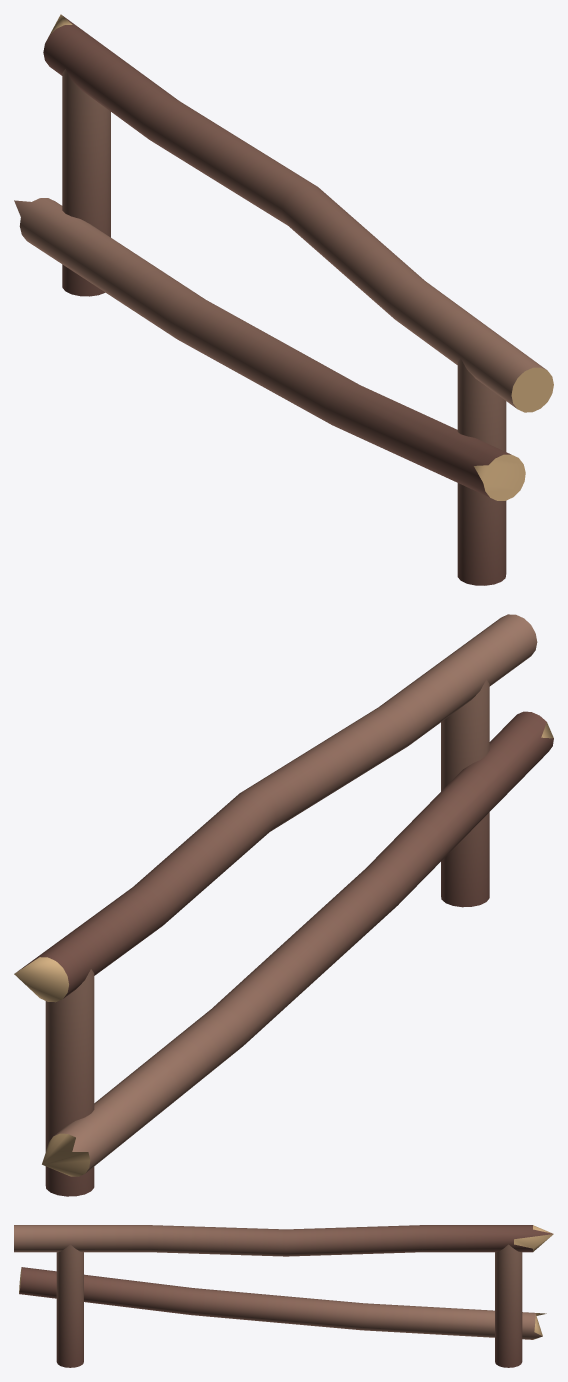
File: Log_Fence_1.fbx
The picture shows the model from 3 angles, top to bottom: view 1: azimuth 30°, elevation 25°; view 2: azimuth 150°, elevation 25°; view 3: azimuth 270°, elevation 25°; orthographic projection. The views are drawn at different scales.
Visible parts, largest first — view 1: Log_Fence_1; view 2: Log_Fence_1; view 3: Log_Fence_1.
Part boxes in pixels (x1,y1,x2,y2): Log_Fence_1: (14,14,553,585); Log_Fence_1: (14,614,553,1196); Log_Fence_1: (14,1225,553,1367).
Size of the model in its own units: 0.398 by 1.1 by 3.97.
